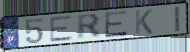5: (24, 17, 45, 44)
E: (103, 9, 129, 39), (49, 14, 75, 43)
I: (173, 5, 182, 33)
K: (133, 9, 154, 35)
R: (76, 13, 103, 41)
